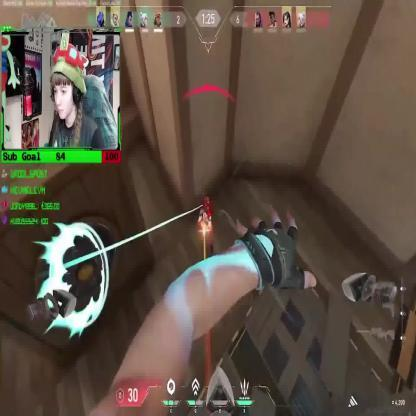enemy: (195, 195, 214, 257)
enemy_head: (204, 198, 210, 212)
